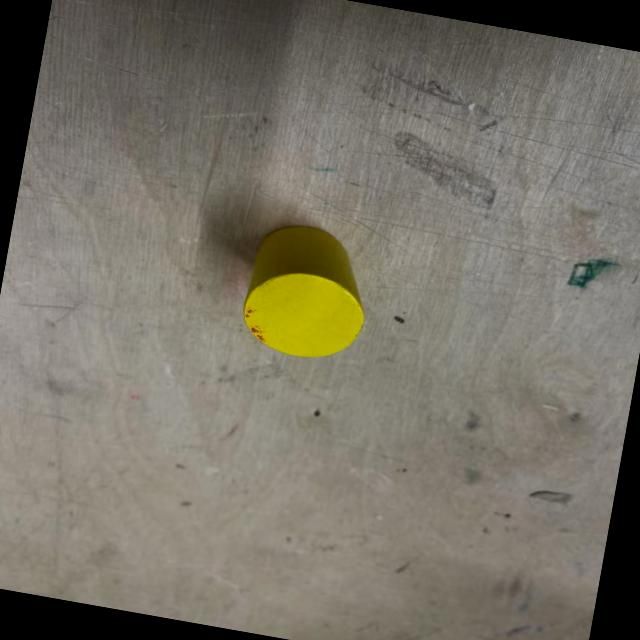yellow_cylinder: (234, 215, 380, 368)
